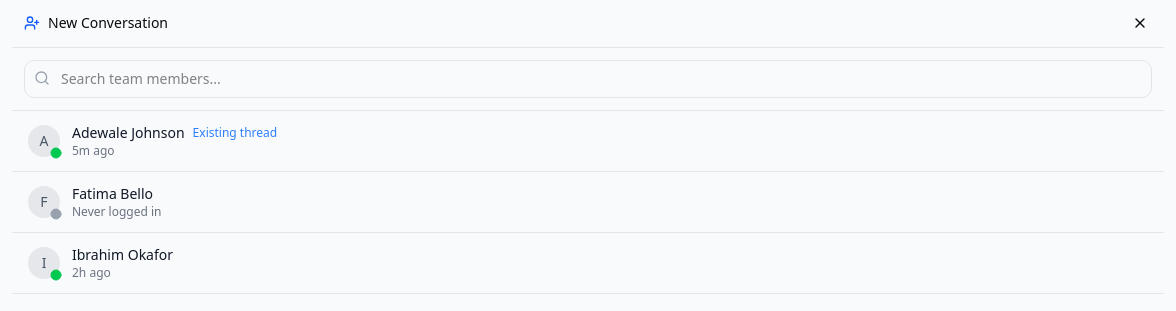
Scenario: TeamRosterPicker › search filter › filters enumerators by name
Type "Fatima" into the field labelled "Search team members" at (588, 79), box [24, 60, 1152, 98]
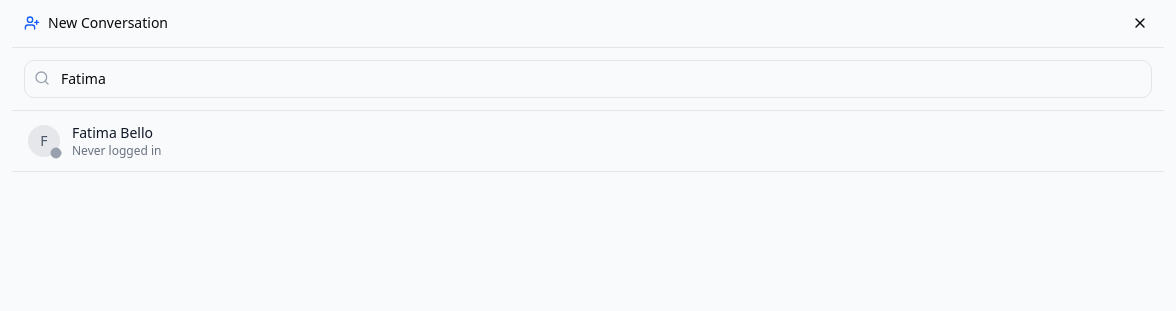
Check: the text "Fatima Bello" is shown, box [72, 123, 153, 143]
Check: the list item "Adewale Johnson" is gone
Check: the list item "Ibrahim Okafor" is gone
